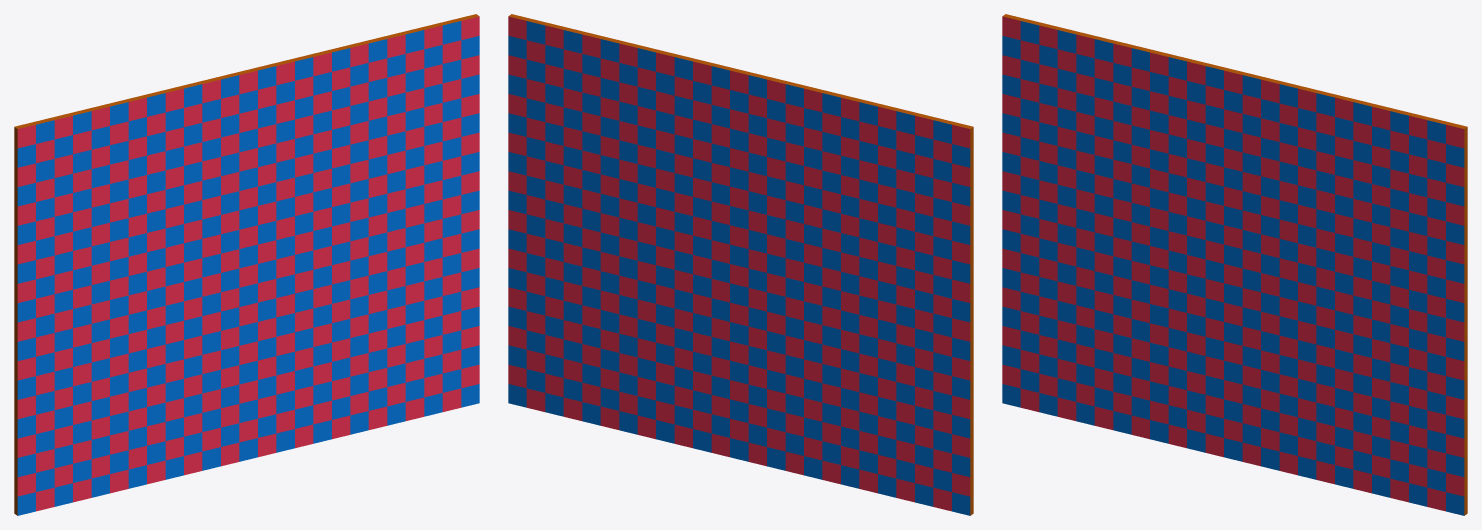
The model's file is CheckerPlane_25x20.obj.
3 renders of one model, left to right at view 1: azimuth 30°, elevation 25°; view 2: azimuth 150°, elevation 25°; view 3: azimuth 330°, elevation 25°, orthographic.
Visible parts, largest first — view 1: plane1001, plane1003; view 2: plane1001, plane1003; view 3: plane1001, plane1002.
Boxes of the visible parts, x1=… form: plane1001: x1=14, y1=14, x2=479, y2=128; plane1003: x1=14, y1=127, x2=17, y2=515; plane1001: x1=508, y1=14, x2=973, y2=128; plane1003: x1=970, y1=127, x2=973, y2=515; plane1001: x1=1002, y1=14, x2=1467, y2=128; plane1002: x1=1464, y1=127, x2=1467, y2=515.
Bounding box in the file's own units: 20 × 16 × 0.25.
